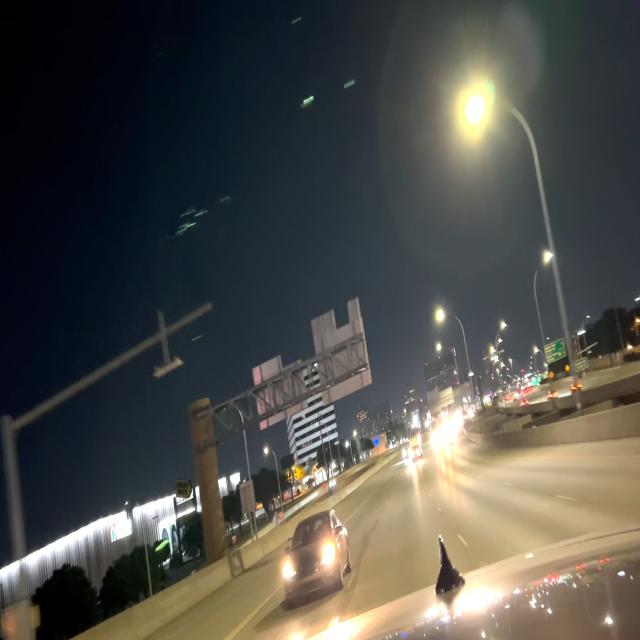back-of-sign: (311, 295, 372, 405), (253, 353, 306, 432), (427, 384, 455, 414), (239, 479, 257, 523)
